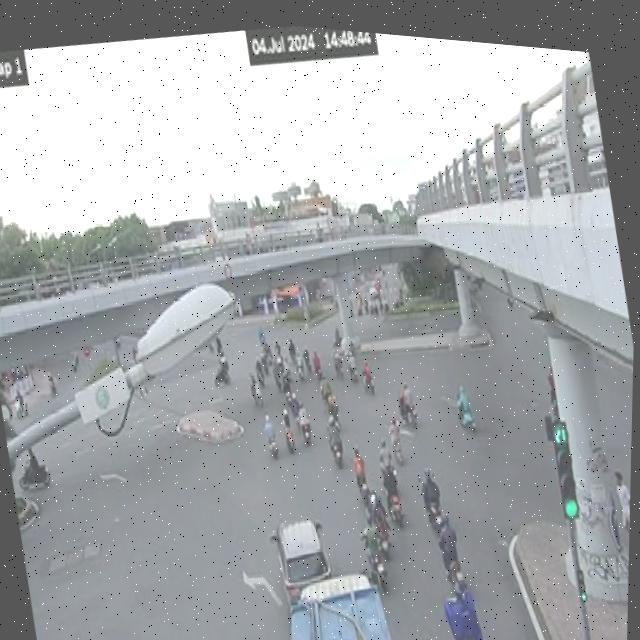Green: (549, 402, 587, 516), (576, 556, 592, 595)
